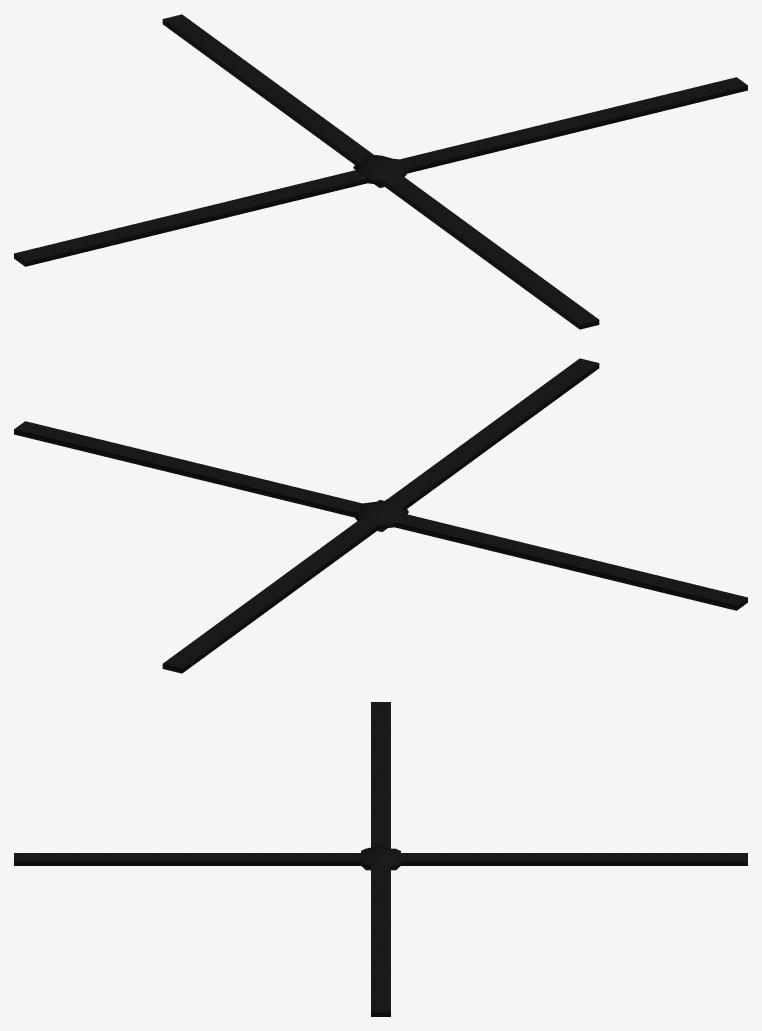
3 renders of one model, top to bottom at view 1: azimuth 30°, elevation 25°; view 2: azimuth 150°, elevation 25°; view 3: azimuth 270°, elevation 25°, orthographic. The views are drawn at different scales.
Bounding box in the file's own units: 7.4 × 0.15 × 7.4.
1 material, 1 textured.
